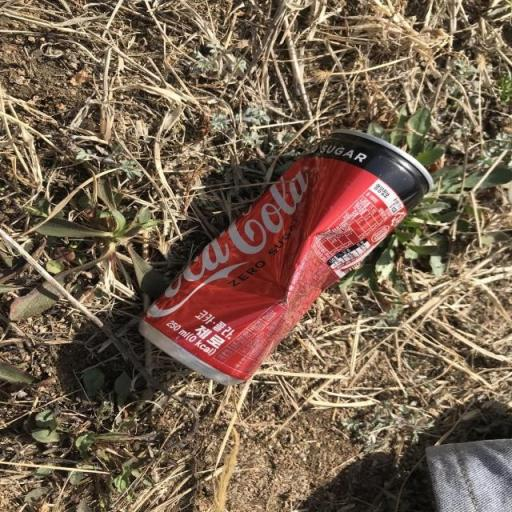metal: (106, 113, 452, 415)
